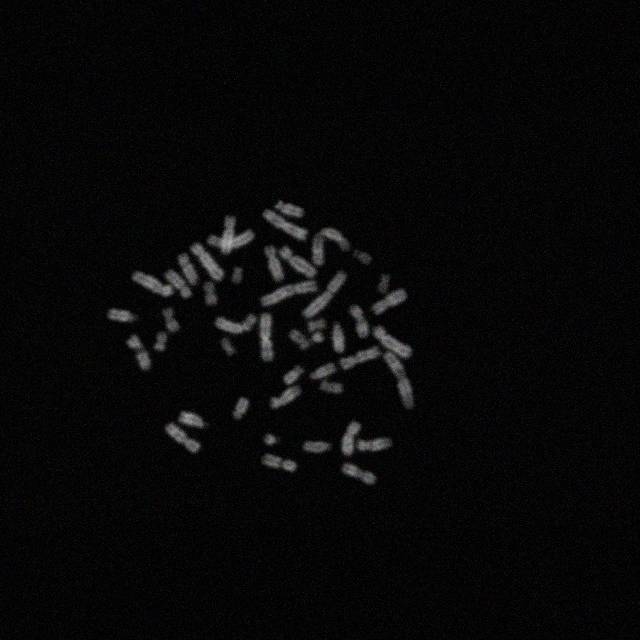chromosome: (302, 272, 346, 318), (384, 352, 416, 408), (260, 280, 318, 306), (312, 228, 350, 264), (264, 209, 308, 239), (190, 242, 223, 280), (373, 326, 412, 358), (278, 246, 316, 278), (166, 422, 200, 453), (132, 272, 172, 296), (208, 230, 255, 250), (372, 289, 408, 315), (341, 346, 381, 369), (127, 334, 151, 370), (216, 312, 256, 333), (166, 268, 192, 298), (264, 245, 284, 282), (270, 385, 300, 409), (342, 462, 376, 483), (342, 420, 361, 456), (178, 252, 198, 286), (260, 313, 274, 361), (262, 453, 296, 471), (349, 306, 368, 338), (356, 438, 392, 452), (222, 214, 234, 254), (276, 201, 304, 217), (282, 365, 304, 385), (310, 363, 336, 379), (178, 412, 204, 428), (290, 330, 310, 350), (163, 308, 179, 332), (232, 396, 248, 419), (303, 441, 331, 454), (108, 310, 136, 322), (332, 322, 343, 352), (220, 336, 236, 356), (321, 379, 342, 393), (205, 283, 218, 305), (354, 250, 372, 264), (378, 274, 389, 294), (308, 319, 326, 331), (154, 333, 166, 351), (232, 266, 242, 284), (264, 435, 278, 445), (310, 332, 324, 342)
